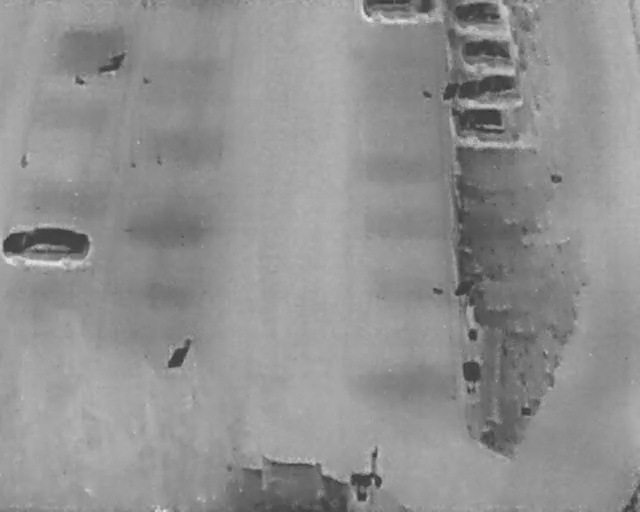Car: (1, 225, 92, 265), (448, 105, 532, 144), (451, 73, 528, 105), (461, 36, 529, 69), (359, 0, 441, 24), (452, 1, 517, 29)
